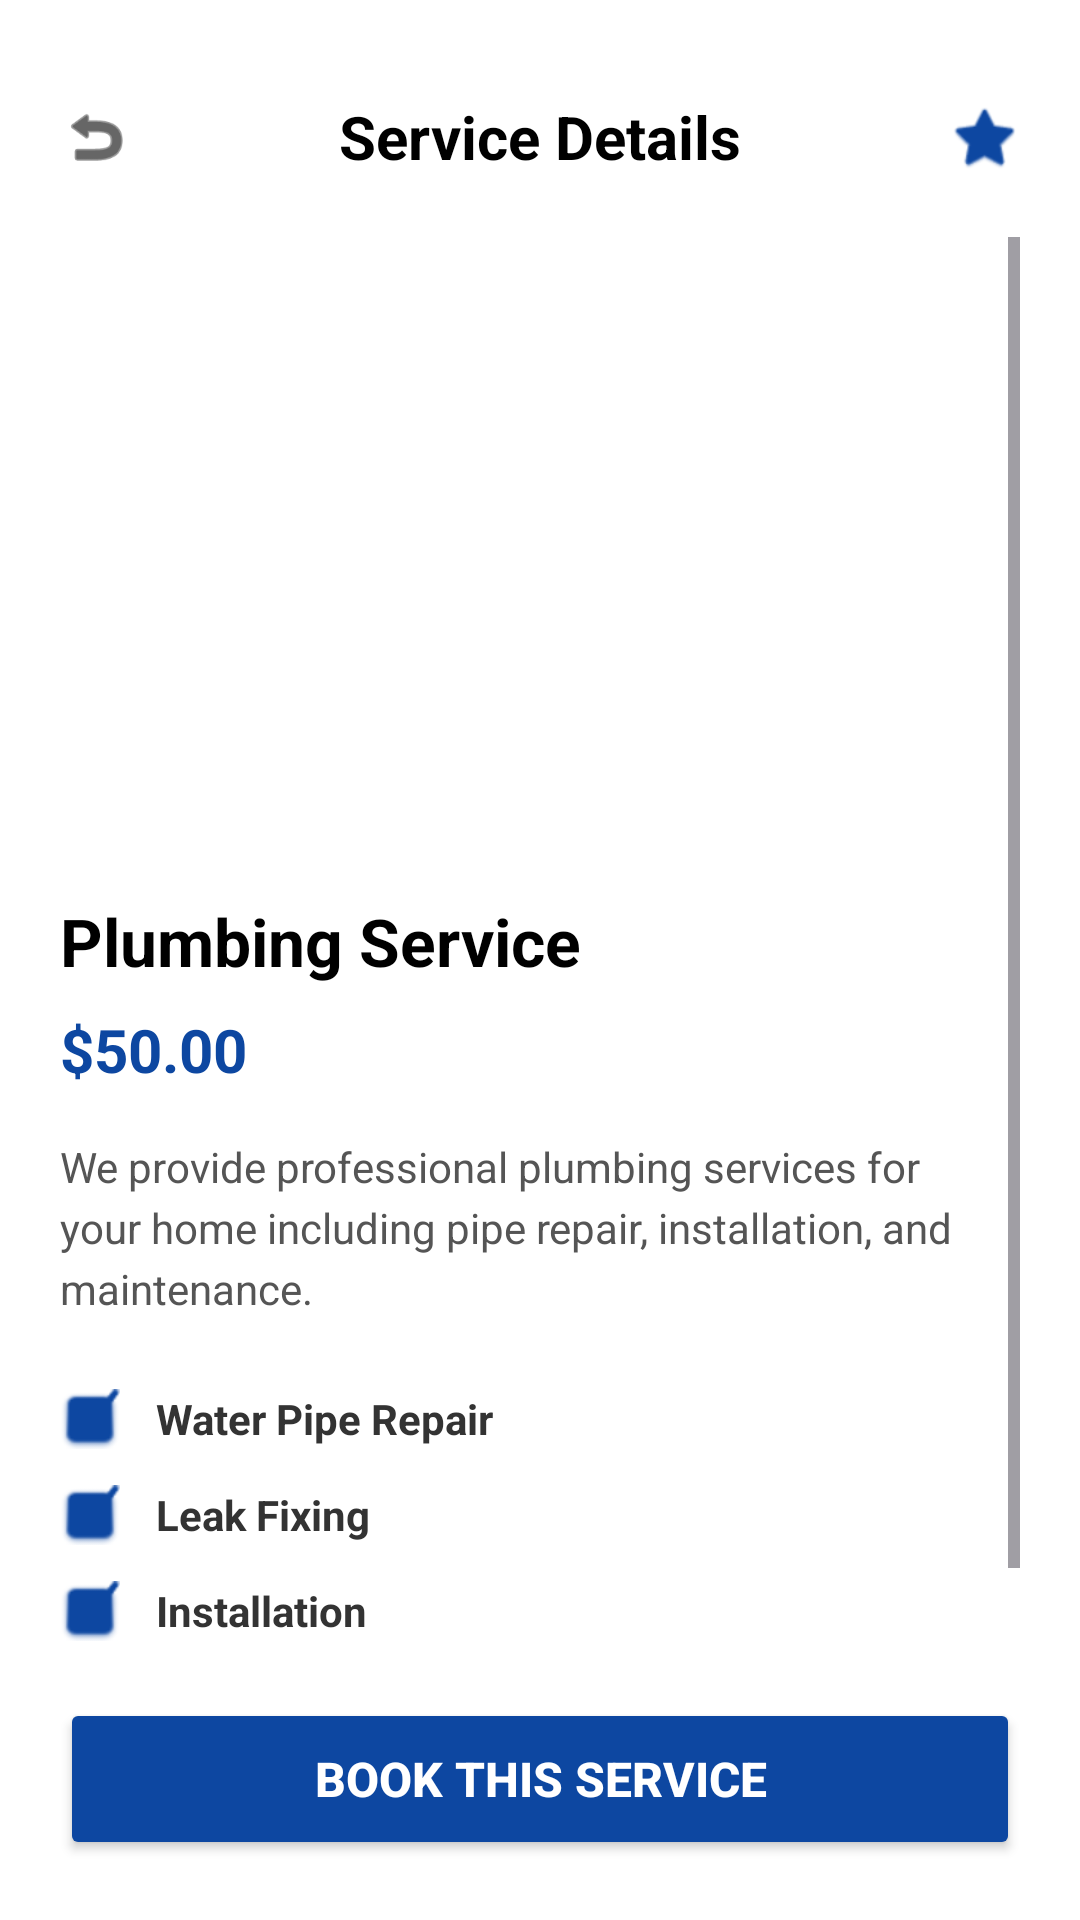

Where to tap for icons on this 1080w x 1920h app screen, as (x=x, y=y):
revert: (x=97, y=137)
